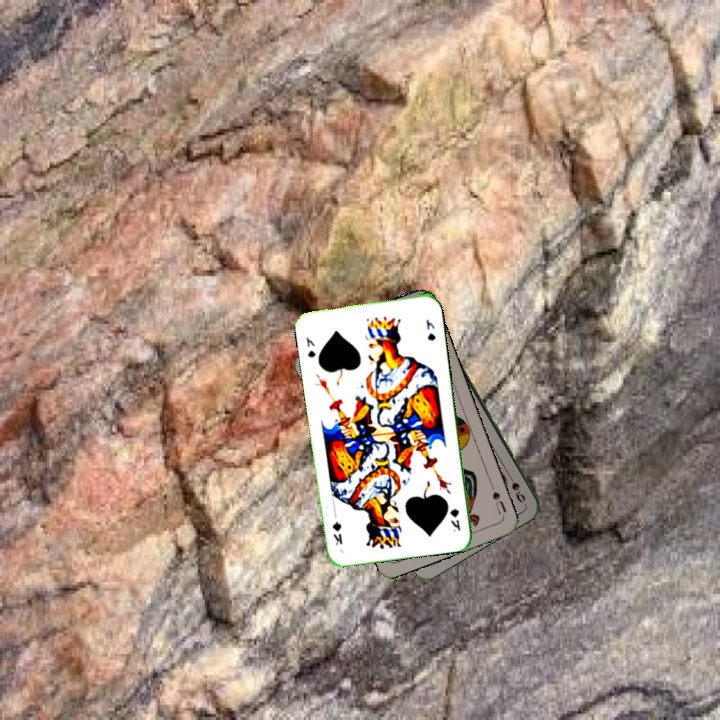GK: (446, 505, 463, 534), (302, 333, 318, 360)
S9: (502, 468, 528, 505)
SU: (486, 480, 509, 519)
